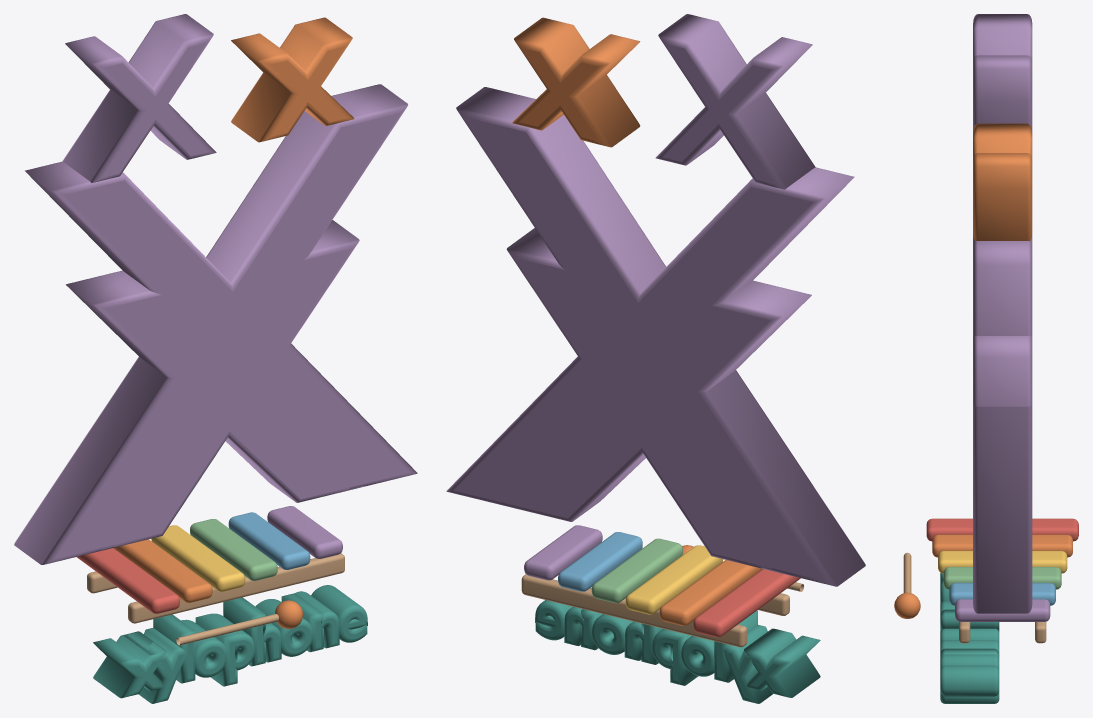
File: letter-x.glb
The picture shows the model from 3 angles, left to right: view 1: azimuth 30°, elevation 25°; view 2: azimuth 150°, elevation 25°; view 3: azimuth 270°, elevation 25°; orthographic projection. The views are drawn at different scales.
Parts seen in each view (by area): view 1: letter solid, letter solid.001, example word, uppercase solid, lowercase solid, xylophone rail, tone bar, tone bar.001, tone bar.002, tone bar.003, tone bar.004, tone bar.005 (+2 smaller); view 2: letter solid, letter solid.001, uppercase solid, example word, lowercase solid, xylophone rail.001, tone bar, tone bar.002, tone bar.001, tone bar.003, tone bar.004, tone bar.005; view 3: letter solid, lowercase solid, uppercase solid, example word, letter solid.001, tone bar, tone bar.001, tone bar.005, tone bar.002, tone bar.003, tone bar.004, mallet head (+1 smaller).
Part boxes in pixels (x1,y1,x2,y2): letter solid: (14,84,417,564); letter solid.001: (66,220,364,550); example word: (93,585,367,703); uppercase solid: (62,14,216,182); lowercase solid: (231,17,354,142); xylophone rail: (128,553,344,623); tone bar: (77,548,179,613); tone bar.001: (113,539,212,602); tone bar.002: (151,525,245,591); tone bar.003: (190,519,277,580); tone bar.004: (228,512,310,569); tone bar.005: (267,506,342,558); letter solid: (446,87,865,586); letter solid.001: (503,228,811,568); uppercase solid: (655,14,815,189); example word: (535,587,820,703); lowercase solid: (512,17,640,147); xylophone rail.001: (521,574,747,647); tone bar: (693,569,800,637); tone bar.002: (625,545,723,614); tone bar.001: (659,560,762,625); tone bar.003: (591,538,682,603); tone bar.004: (558,532,642,591); tone bar.005: (524,525,602,580); letter solid: (973,234,1032,613); lowercase solid: (973,123,1032,241); uppercase solid: (973,14,1032,131); example word: (940,573,999,703); letter solid.001: (973,336,1032,406); tone bar: (926,518,1078,541); tone bar.001: (932,534,1072,557); tone bar.005: (955,599,1050,621); tone bar.002: (938,551,1067,573); tone bar.003: (943,567,1061,589); tone bar.004: (949,583,1055,605); mallet head: (894,592,920,618).
Size of the model in its own units: 1.23 by 1.98 by 0.5626.
